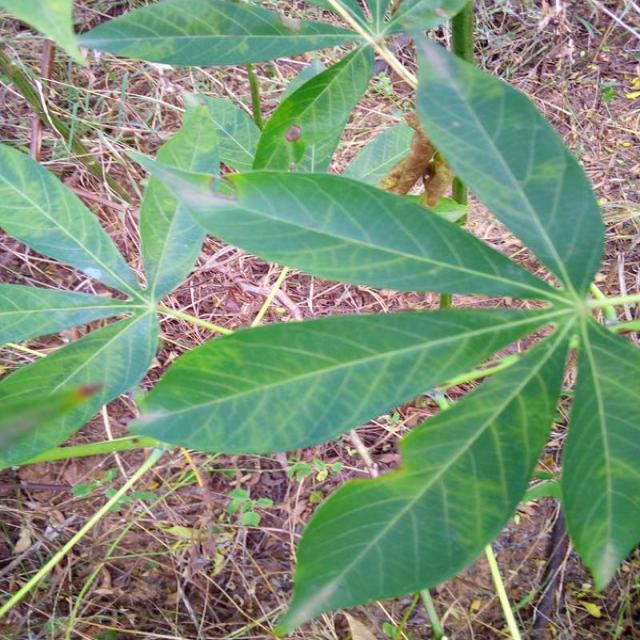cassava leaf: (271, 316, 570, 636), (126, 305, 553, 456), (165, 165, 567, 303), (411, 28, 605, 300), (0, 308, 159, 472), (0, 140, 145, 301), (559, 312, 639, 593), (75, 0, 368, 68), (137, 102, 221, 303)
